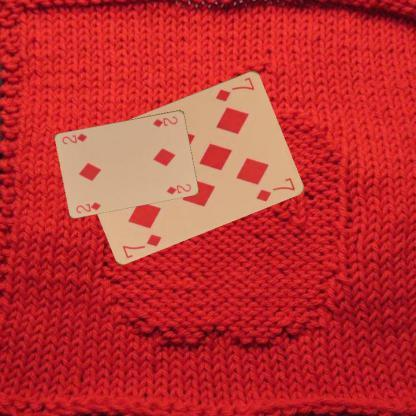2d: (74, 199, 102, 214), (150, 114, 179, 128)
7d: (120, 231, 164, 260), (213, 74, 256, 103)
